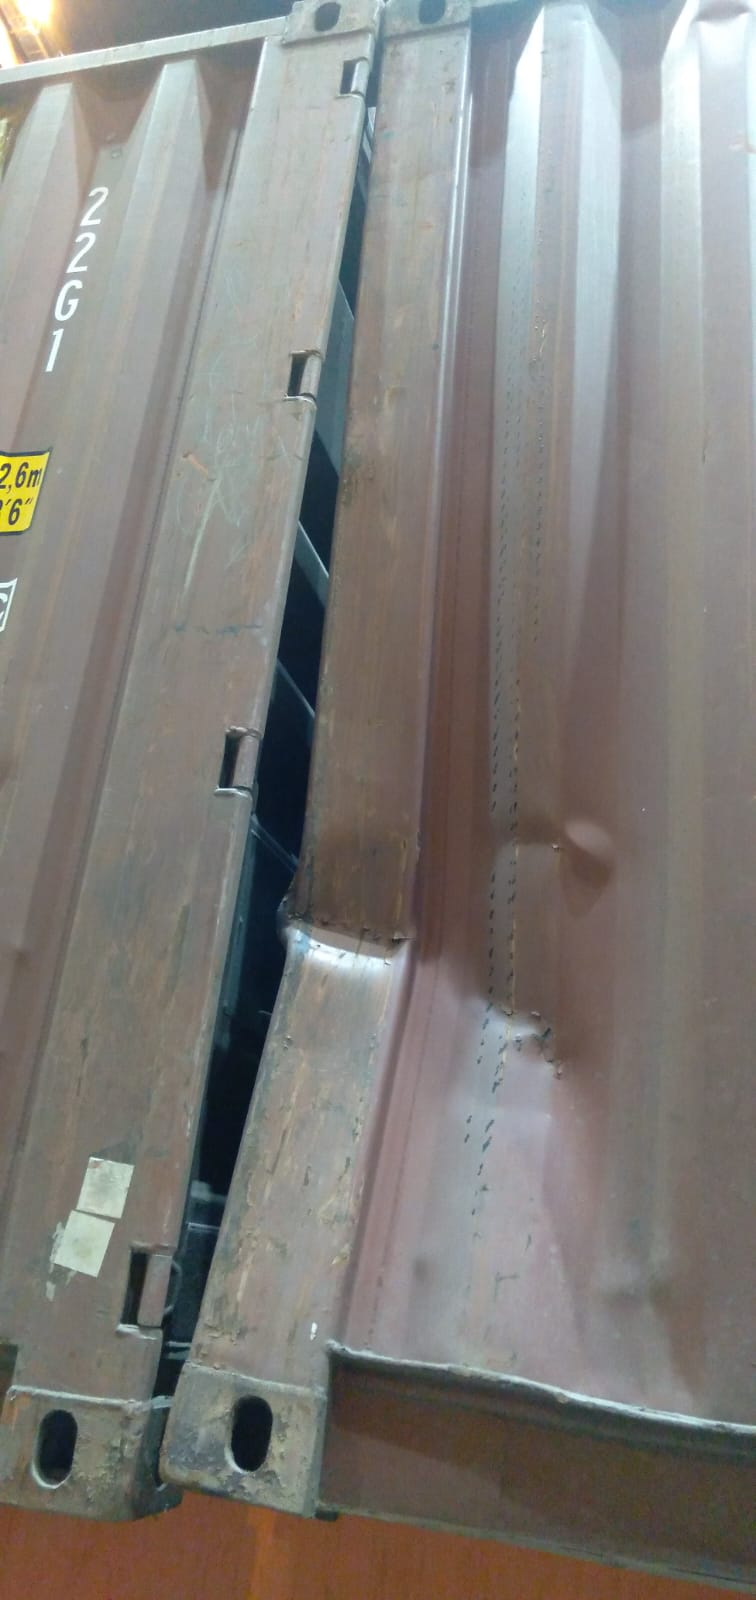dented: (257, 403, 671, 1227)
